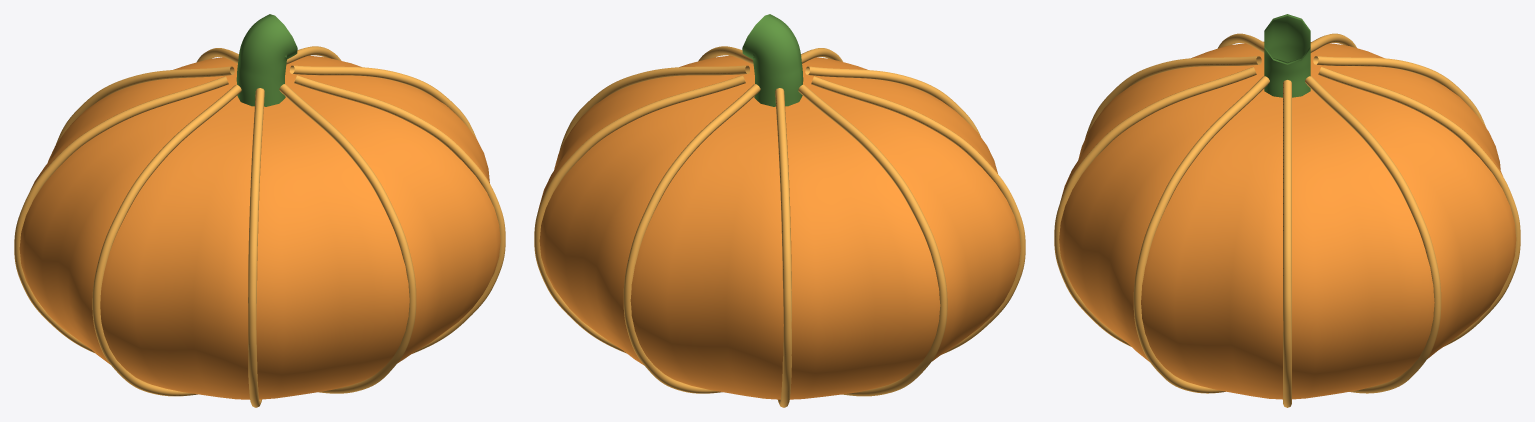
File: pumpkin.glb
3 renders of one model, left to right at view 1: azimuth 30°, elevation 25°; view 2: azimuth 150°, elevation 25°; view 3: azimuth 270°, elevation 25°, orthographic.
Visible parts, largest first — view 1: Pumpkin | squat ribbed squash.001, Pumpkin | sturdy green stem.001, Pumpkin | soft rib.017, Pumpkin | soft rib.012, Pumpkin | soft rib.011, Pumpkin | soft rib.016, Pumpkin | soft rib.009, Pumpkin | soft rib.014, Pumpkin | soft rib.015, Pumpkin | soft rib.010; view 2: Pumpkin | squat ribbed squash.001, Pumpkin | sturdy green stem.001, Pumpkin | soft rib.011, Pumpkin | soft rib.013, Pumpkin | soft rib.010, Pumpkin | soft rib.017, Pumpkin | soft rib.015, Pumpkin | soft rib.014, Pumpkin | soft rib.009, Pumpkin | soft rib.016; view 3: Pumpkin | squat ribbed squash.001, Pumpkin | soft rib.016, Pumpkin | soft rib.010, Pumpkin | sturdy green stem.001, Pumpkin | soft rib.012, Pumpkin | soft rib.013, Pumpkin | soft rib.014, Pumpkin | soft rib.009, Pumpkin | soft rib.015, Pumpkin | soft rib.017, Pumpkin | soft rib.011.
Boxes of the visible parts, box(x1,y1,x2,y2) form: Pumpkin | squat ribbed squash.001: box(19, 55, 500, 399); Pumpkin | sturdy green stem.001: box(236, 14, 297, 106); Pumpkin | soft rib.017: box(92, 84, 241, 396); Pumpkin | soft rib.012: box(279, 84, 416, 393); Pumpkin | soft rib.011: box(14, 76, 228, 353); Pumpkin | soft rib.016: box(294, 75, 505, 353); Pumpkin | soft rib.009: box(248, 88, 264, 407); Pumpkin | soft rib.014: box(289, 65, 476, 138); Pumpkin | soft rib.015: box(56, 66, 234, 144); Pumpkin | soft rib.010: box(286, 46, 341, 64); Pumpkin | squat ribbed squash.001: box(538, 55, 1020, 399); Pumpkin | sturdy green stem.001: box(742, 14, 803, 106); Pumpkin | soft rib.011: box(798, 84, 947, 396); Pumpkin | soft rib.013: box(623, 84, 760, 393); Pumpkin | soft rib.010: box(534, 75, 745, 353); Pumpkin | soft rib.017: box(811, 76, 1025, 354); Pumpkin | soft rib.015: box(775, 88, 791, 407); Pumpkin | soft rib.014: box(559, 65, 750, 151); Pumpkin | soft rib.009: box(805, 66, 980, 136); Pumpkin | soft rib.016: box(698, 46, 753, 64); Pumpkin | squat ribbed squash.001: box(1059, 41, 1516, 399); Pumpkin | soft rib.016: box(1133, 76, 1269, 393); Pumpkin | soft rib.010: box(1305, 76, 1441, 393); Pumpkin | sturdy green stem.001: box(1264, 14, 1310, 97); Pumpkin | soft rib.012: box(1054, 66, 1256, 346); Pumpkin | soft rib.013: box(1318, 66, 1520, 346); Pumpkin | soft rib.014: box(1283, 80, 1291, 407); Pumpkin | soft rib.009: box(1085, 56, 1261, 138); Pumpkin | soft rib.015: box(1313, 56, 1485, 126); Pumpkin | soft rib.017: box(1217, 33, 1264, 52); Pumpkin | soft rib.011: box(1310, 33, 1356, 52).
Bounding box in the file's own units: 1.96 × 1.56 × 1.81.
